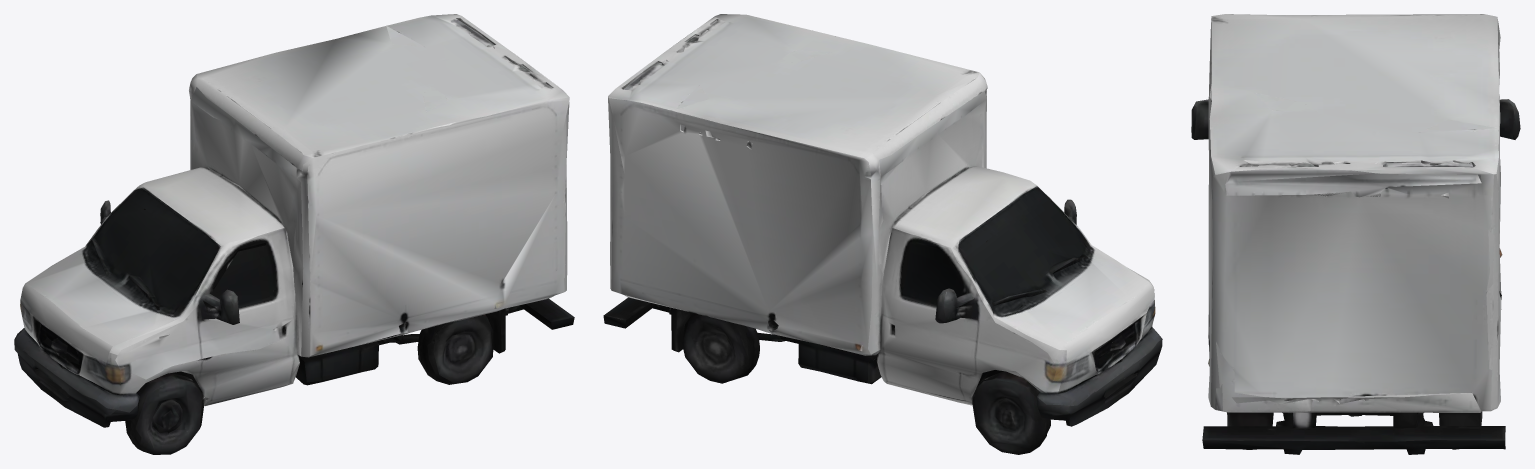
Rendered from van.glb.
3 renders of one model, left to right at view 1: azimuth 30°, elevation 25°; view 2: azimuth 150°, elevation 25°; view 3: azimuth 270°, elevation 25°, orthographic. The views are drawn at different scales.
Parts seen in each view (by area): view 1: world; view 2: world; view 3: world.
Boxes of the visible parts, x1,y1,x2,y2 form: world: (14,14,574,454); world: (603,14,1162,454); world: (1191,14,1520,454).
Bounding box in the file's own units: 7.29 × 4.15 × 3.66.
Materials: 1 (1 with a texture image).
